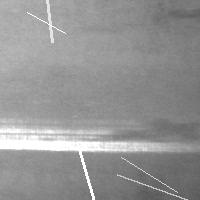scratches: (1, 119, 177, 152), (116, 152, 182, 197), (112, 169, 192, 200), (74, 144, 105, 200), (22, 7, 70, 38), (39, 0, 57, 47)
